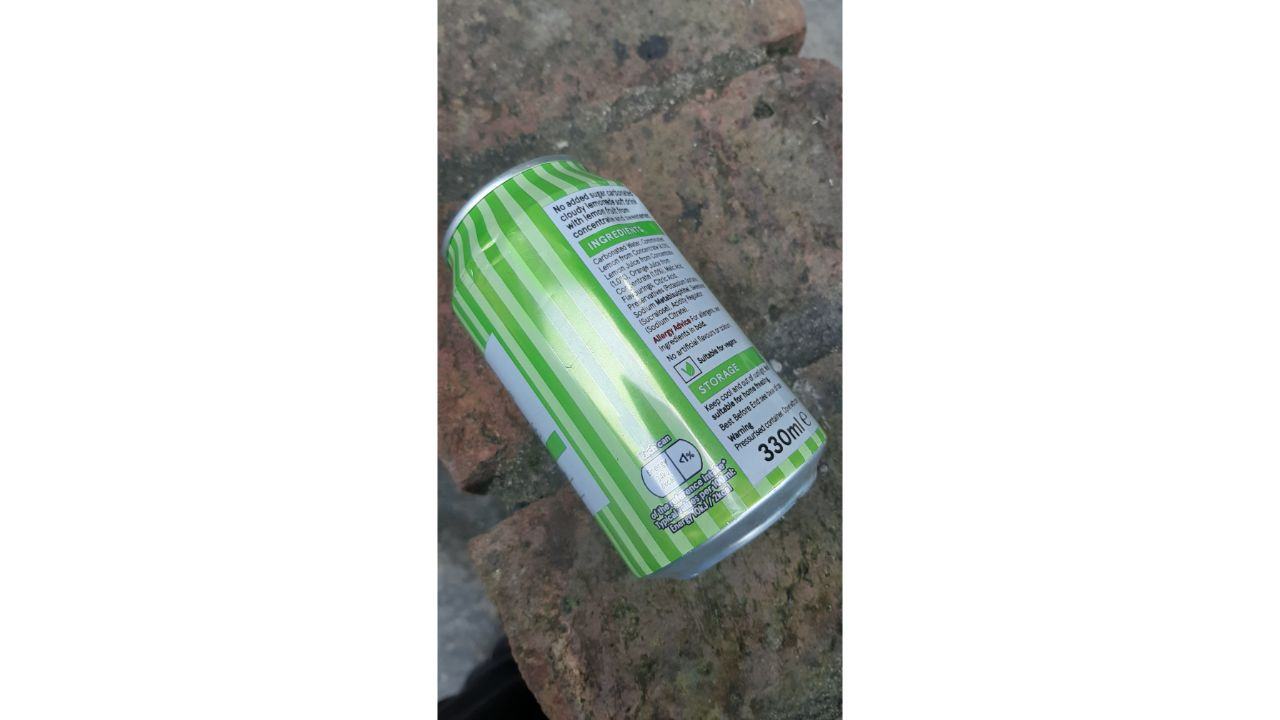Can: (440, 153, 829, 583)
